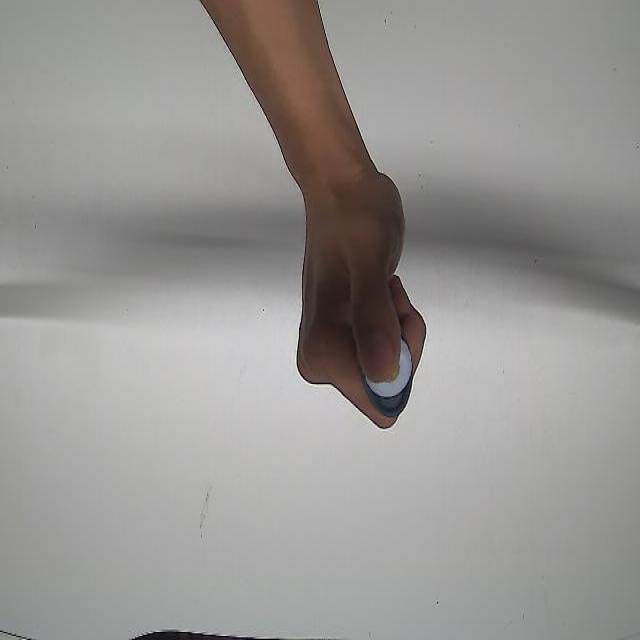Single Channel Pipettor: (352, 308, 418, 418)
